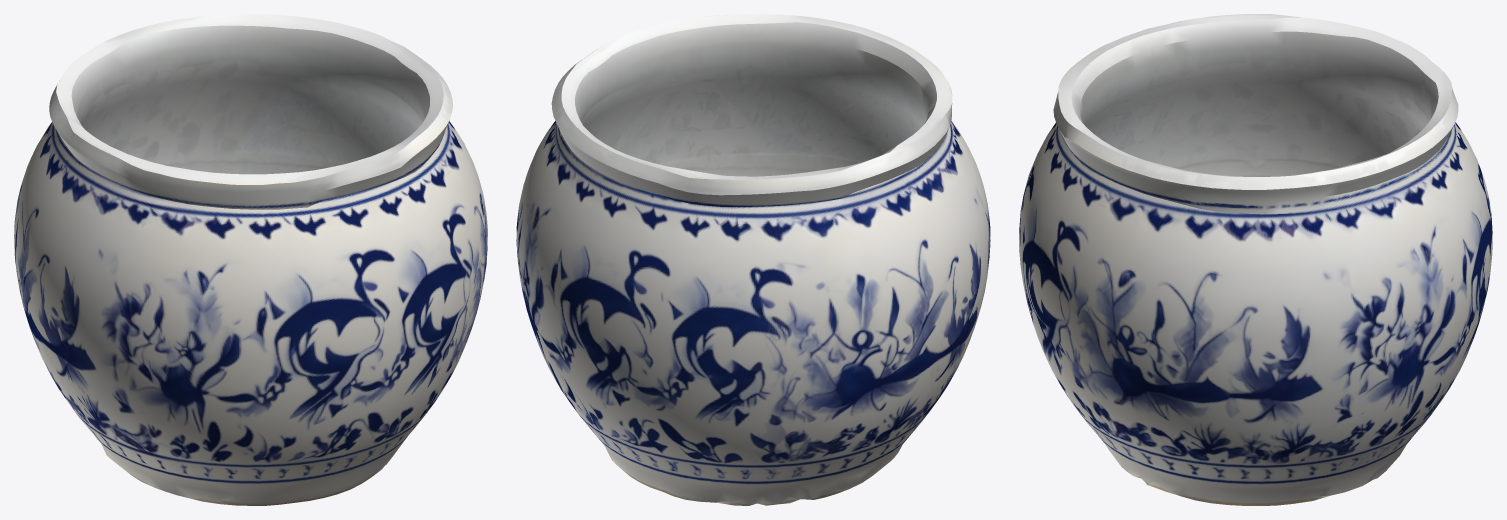
Rendered from Meshy_AI__0418085809_texture.fbx.
The picture shows the model from 3 angles, left to right: view 1: azimuth 30°, elevation 25°; view 2: azimuth 150°, elevation 25°; view 3: azimuth 270°, elevation 25°; orthographic projection.
Visible parts, largest first — view 1: output; view 2: output; view 3: output.
Part boxes in pixels (bbox=[...]): output: bbox=[14, 14, 487, 505]; output: bbox=[516, 14, 990, 505]; output: bbox=[1019, 14, 1492, 505].
Bounding box in the file's own units: 202 × 166 × 202.
Materials: 1 (1 with a texture image).
